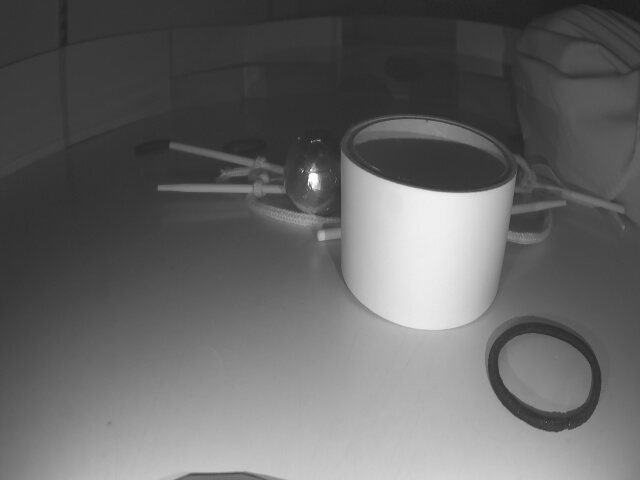Live: (283, 129, 344, 222)
Point: (172, 63, 335, 113), (463, 73, 524, 127)
